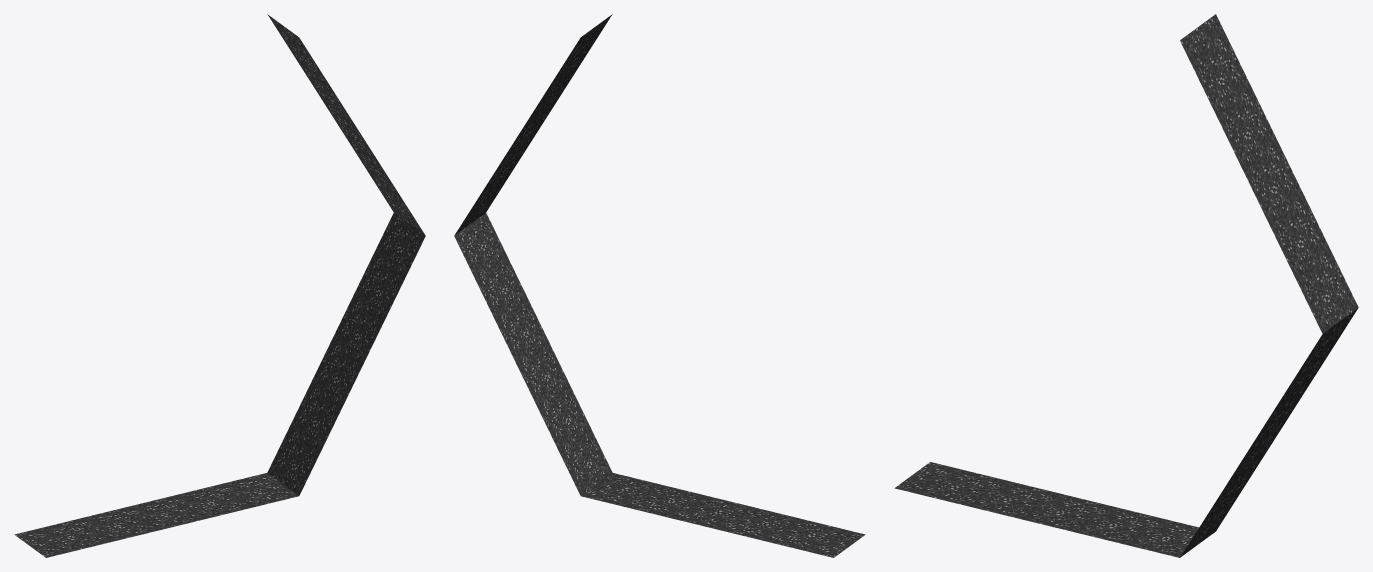
File: 2DCover002.obj
3 renders of one model, left to right at view 1: azimuth 30°, elevation 25°; view 2: azimuth 150°, elevation 25°; view 3: azimuth 330°, elevation 25°, orthographic. The views are drawn at different scales.
Parts seen in each view (by area): view 1: shape0__Dot2D_rep; view 2: shape0__Dot2D_rep; view 3: shape0__Dot2D_rep.
Part boxes in pixels (x1,y1,x2,y2): shape0__Dot2D_rep: (14,14,425,557); shape0__Dot2D_rep: (454,14,865,557); shape0__Dot2D_rep: (894,14,1358,557).
Bounding box in the file's own units: 7190 × 8302 × 1050.
Materials: 2 (1 with a texture image).
